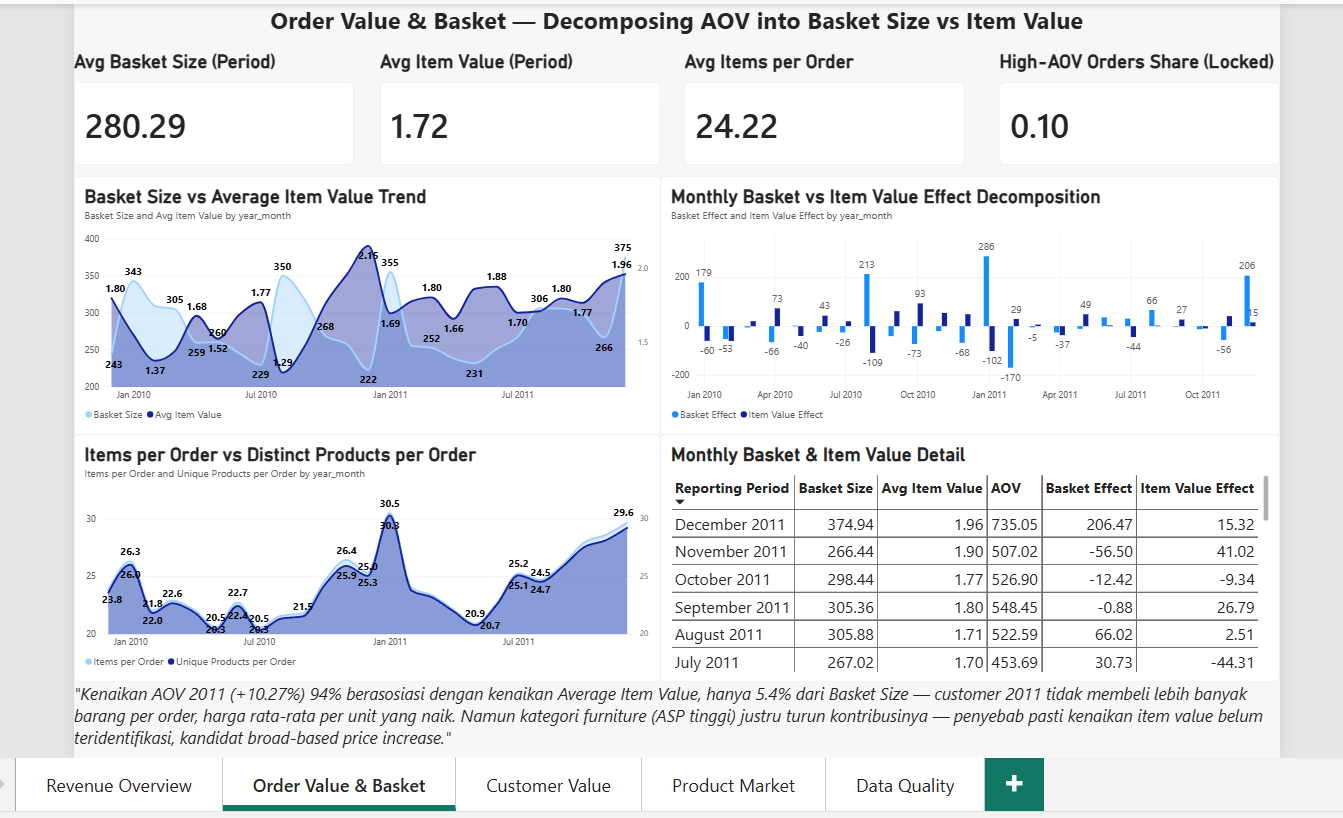

This screenshot's page, from the dashboard's own definition file:
{"tool":"powerbi","page":{"name":"Order Value & Basket","canvas":[1920,1080],"ordinal":1},"visuals":[{"type":"textbox","box":[312.6,0,1314.6,74],"z":0},{"type":"cardVisual","title":"Avg Basket Size (Period)","fields":{"Data":["mart_basket_aov.Avg Basket Size"]},"box":[0,73.9,445.9,182.3],"z":1000},{"type":"cardVisual","title":"Avg Item Value (Period)","fields":{"Data":["mart_basket_aov.Avg Item Value"]},"box":[487.8,73.9,446,182],"z":2000},{"type":"cardVisual","title":"Avg Items per Order","fields":{"Data":["mart_basket_aov.Avg Items per Order"]},"box":[970.7,73.9,446,182],"z":3000},{"type":"cardVisual","title":"High-AOV Orders Share (Locked)","fields":{"Data":["mart_basket_aov.High AOV Orders Share"]},"box":[1473.3,73.9,446,182],"z":4000},{"type":"lineChart","title":"Basket Size vs Average Item Value Trend","fields":{"Category":["mart_basket_aov.year_month.Variation.Date Hierarchy.Year"],"Y":["Sum(mart_basket_aov.basket_size)"],"Y2":["Sum(mart_basket_aov.avg_item_value)"]},"box":[0,273.5,933.7,411.4],"z":5000},{"type":"lineChart","title":"Items per Order vs Distinct Products per Order","fields":{"Category":["mart_basket_aov.year_month.Variation.Date Hierarchy.Year"],"Y":["Sum(mart_basket_aov.items_per_order)"],"Y2":["Sum(mart_basket_aov.distinct_products_per_order)"]},"box":[0,684.9,933.7,394.2],"z":6000},{"type":"clusteredColumnChart","title":"Monthly Basket vs Item Value Effect Decomposition","fields":{"Y":["Sum(mart_basket_aov.basket_effect)","Sum(mart_basket_aov.item_value_effect)"],"Category":["mart_basket_aov.year_month.Variation.Date Hierarchy.Year"]},"box":[933.7,273.5,985.5,411.4],"z":7000},{"type":"tableEx","title":"Monthly Basket & Item Value Detail","fields":{"Values":["mart_basket_aov.year_month.Variation.Date Hierarchy.Year","Sum(mart_basket_aov.basket_size)","Sum(mart_basket_aov.avg_item_value)","Sum(mart_basket_aov.aov)","Sum(mart_basket_aov.basket_effect)","Sum(mart_basket_aov.item_value_effect)"]},"box":[933.7,684.9,985.5,394.2],"z":8000}]}

Visuals, with their boxes on the page's 1920x1080 design canvas (x1, y1, x2, y2). These are canvas units, not pixel positions in the 1343x818 screenshot, which may show the page scaled, cropped or inside an application window:
textbox: rect(313, 0, 1627, 74)
"Avg Basket Size (Period)" cardVisual: rect(0, 74, 446, 256)
"Avg Item Value (Period)" cardVisual: rect(488, 74, 934, 256)
"Avg Items per Order" cardVisual: rect(971, 74, 1417, 256)
"High-AOV Orders Share (Locked)" cardVisual: rect(1473, 74, 1919, 256)
"Basket Size vs Average Item Value Trend" lineChart: rect(0, 274, 934, 685)
"Items per Order vs Distinct Products per Order" lineChart: rect(0, 685, 934, 1079)
"Monthly Basket vs Item Value Effect Decomposition" clusteredColumnChart: rect(934, 274, 1919, 685)
"Monthly Basket & Item Value Detail" tableEx: rect(934, 685, 1919, 1079)
